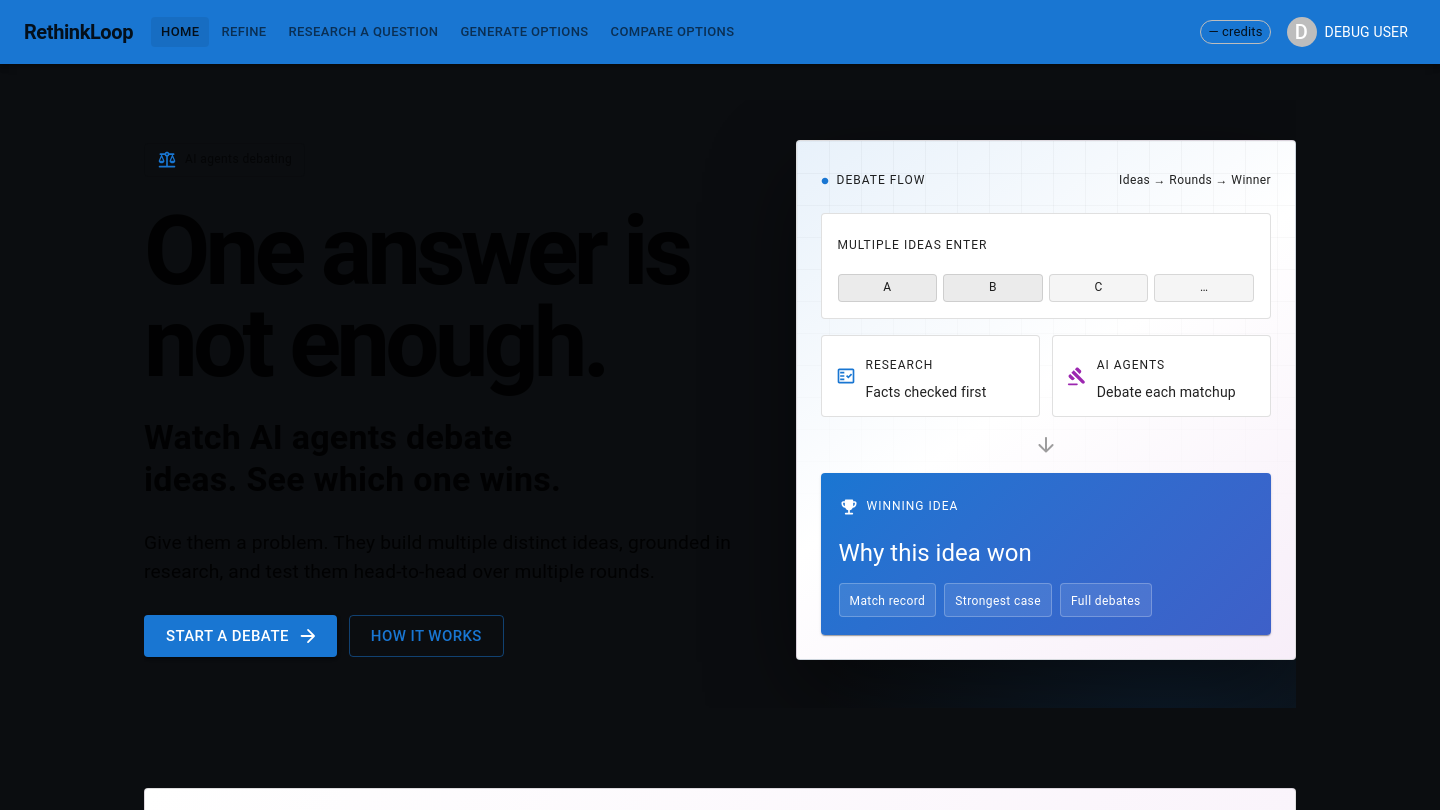
Test: App › renders the authenticated home inside a conventional application shell
Expected: the link with aria-label "RethinkLoop home" is shown, [24,16,133,48]
Expected: the link "About" is not shown
Click the button with aria-label "Open account menu for Debug User" at [1347, 32], box [1279,11,1416,53]
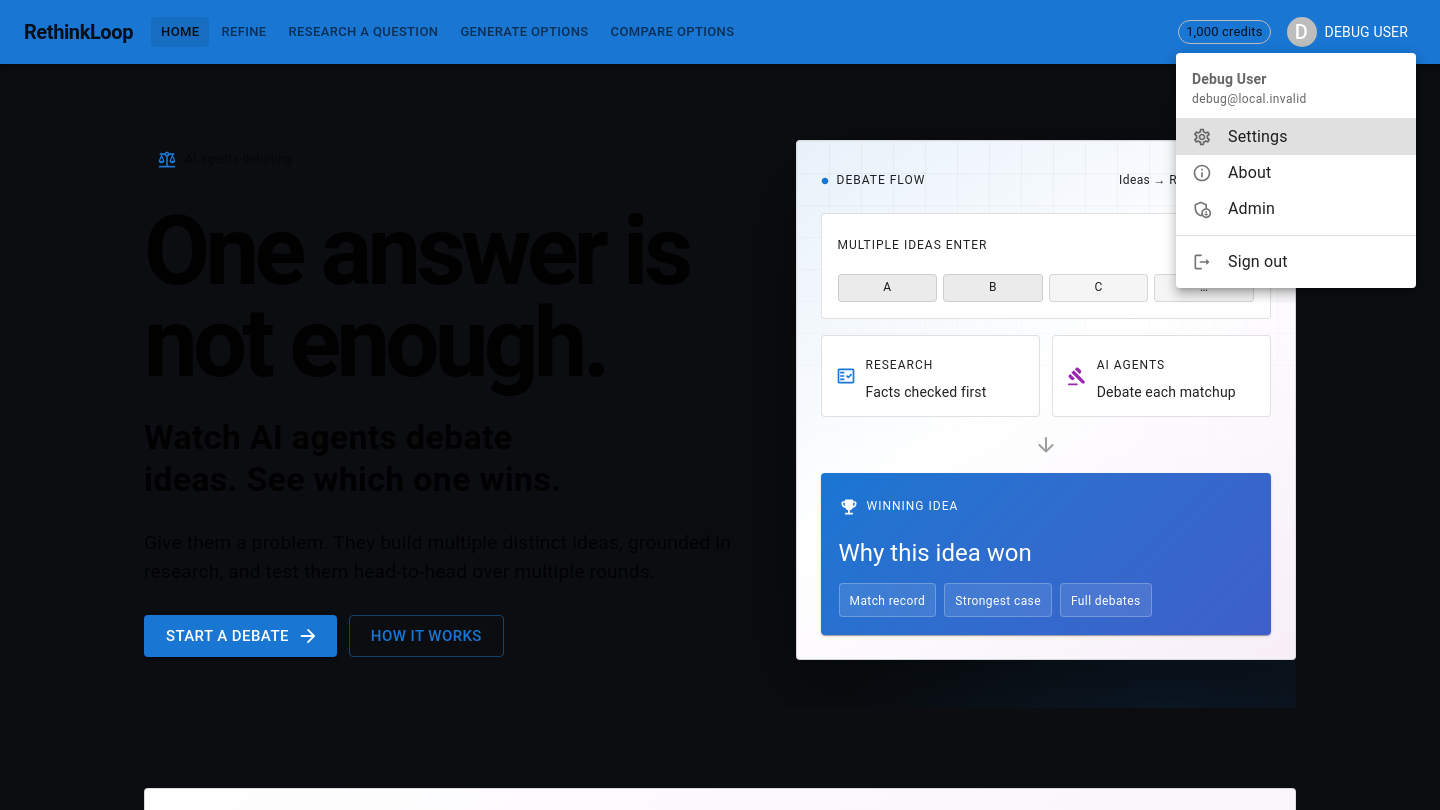
Expected: the text "Debug User" is shown, [1192,71,1266,87]
Expected: the menu item "Sign out" is shown, [1192,252,1288,272]
